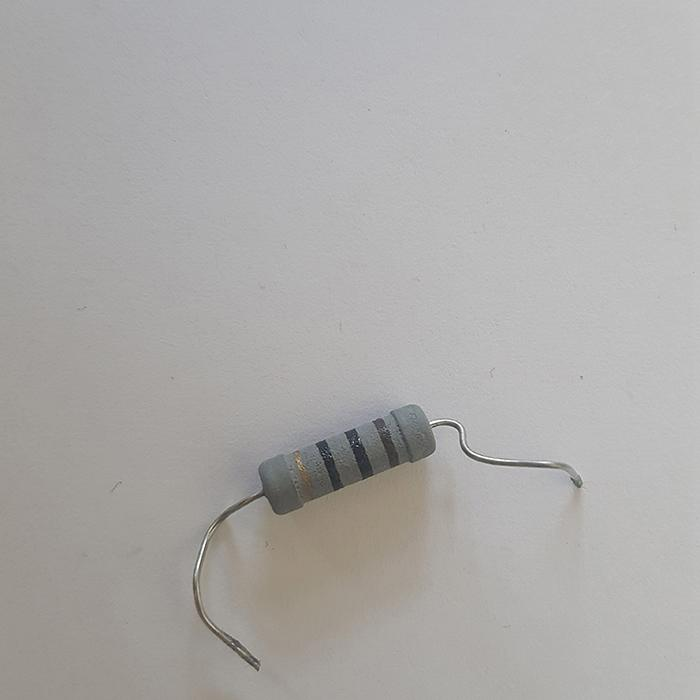resistor: (255, 400, 438, 514)
